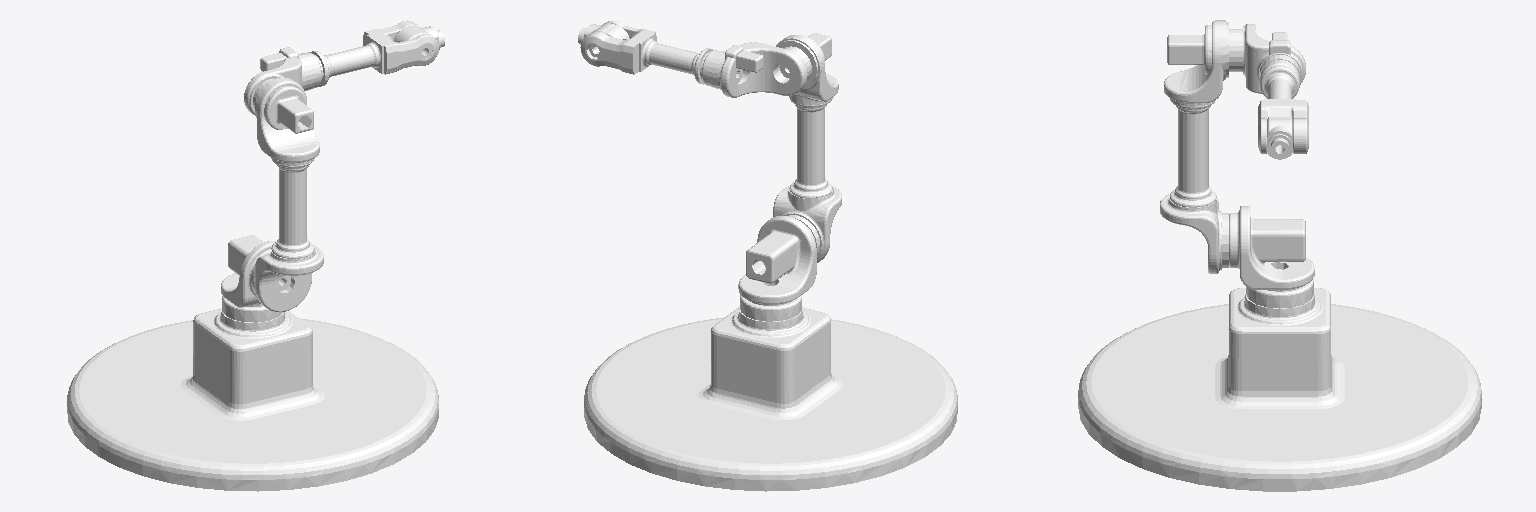
robot.urdf — RVR20MINI_TEMP.SLDASM:
<?xml version="1.0" encoding="utf-8"?>
<!-- This URDF was automatically created by SolidWorks to URDF Exporter! Originally created by [author] ([email redacted]) 
     Commit Version: 1.6.0-4-g7f85cfe  Build Version: 1.6.7995.38578
     For more information, please see http://wiki.ros.org/sw_urdf_exporter -->
<robot
  name="RVR20MINI_TEMP.SLDASM">
  <link
    name="base_link">
    <inertial>
      <origin
        xyz="-1.54392989783833E-19 0.00929477297706579 -4.97751632708001E-18"
        rpy="0 0 0" />
      <mass
        value="0.222689917520898" />
      <inertia
        ixx="0.000274819264637115"
        ixy="2.12307564773359E-22"
        ixz="-8.43724224804088E-22"
        iyy="0.000504168707813865"
        iyz="3.30151799404048E-20"
        izz="0.000274819264637115" />
    </inertial>
    <visual>
      <origin
        xyz="0 0 0"
        rpy="0 0 0" />
      <geometry>
        <mesh
          filename="package://RVR20MINI_TEMP.SLDASM/meshes/base_link.STL" />
      </geometry>
      <material
        name="">
        <color
          rgba="1 1 1 1" />
      </material>
    </visual>
    <collision>
      <origin
        xyz="0 0 0"
        rpy="0 0 0" />
      <geometry>
        <mesh
          filename="package://RVR20MINI_TEMP.SLDASM/meshes/base_link.STL" />
      </geometry>
    </collision>
  </link>
  <link
    name="L1">
    <inertial>
      <origin
        xyz="4.62021943050826E-08 0.0290788057145743 0.0039991736964342"
        rpy="0 0 0" />
      <mass
        value="0.0135740350807715" />
      <inertia
        ixx="3.17413819671584E-06"
        ixy="-4.9658714749571E-12"
        ixz="-5.58072402315751E-14"
        iyy="1.17924282424669E-06"
        iyz="-5.42909059002371E-07"
        izz="2.86969719383377E-06" />
    </inertial>
    <visual>
      <origin
        xyz="0 0 0"
        rpy="0 0 0" />
      <geometry>
        <mesh
          filename="package://RVR20MINI_TEMP.SLDASM/meshes/L1.STL" />
      </geometry>
      <material
        name="">
        <color
          rgba="1 1 1 1" />
      </material>
    </visual>
    <collision>
      <origin
        xyz="0 0 0"
        rpy="0 0 0" />
      <geometry>
        <mesh
          filename="package://RVR20MINI_TEMP.SLDASM/meshes/L1.STL" />
      </geometry>
    </collision>
  </link>
  <joint
    name="J1"
    type="continuous">
    <origin
      xyz="0 0 0.0269"
      rpy="1.5708 0 0" />
    <parent
      link="base_link" />
    <child
      link="L1" />
    <axis
      xyz="0 1 0" />
  </joint>
  <link
    name="L2">
    <inertial>
      <origin
        xyz="-2.86549203059779E-08 0.0379819705942048 0.0146881991179847"
        rpy="0 0 0" />
      <mass
        value="0.0178773231133194" />
      <inertia
        ixx="1.61172519331241E-05"
        ixy="-6.56781619360596E-12"
        ixz="-2.88191711186396E-13"
        iyy="1.12725301541336E-06"
        iyz="-4.65886551400449E-07"
        izz="1.59956345044109E-05" />
    </inertial>
    <visual>
      <origin
        xyz="0 0 0"
        rpy="0 0 0" />
      <geometry>
        <mesh
          filename="package://RVR20MINI_TEMP.SLDASM/meshes/L2.STL" />
      </geometry>
      <material
        name="">
        <color
          rgba="1 1 1 1" />
      </material>
    </visual>
    <collision>
      <origin
        xyz="0 0 0"
        rpy="0 0 0" />
      <geometry>
        <mesh
          filename="package://RVR20MINI_TEMP.SLDASM/meshes/L2.STL" />
      </geometry>
    </collision>
  </link>
  <joint
    name="J2"
    type="continuous">
    <origin
      xyz="0 0.041 0.014"
      rpy="0 0 0" />
    <parent
      link="L1" />
    <child
      link="L2" />
    <axis
      xyz="0 0 1" />
  </joint>
  <link
    name="L3">
    <inertial>
      <origin
        xyz="0.00996266171896739 0.000421532601606267 -0.00640507655955212"
        rpy="0 0 0" />
      <mass
        value="0.00688735229966042" />
      <inertia
        ixx="6.07606488817262E-07"
        ixy="-3.74747259520274E-09"
        ixz="3.91374735946342E-07"
        iyy="1.05305647372454E-06"
        iyz="2.23933306921023E-08"
        izz="8.02459745715922E-07" />
    </inertial>
    <visual>
      <origin
        xyz="0 0 0"
        rpy="0 0 0" />
      <geometry>
        <mesh
          filename="package://RVR20MINI_TEMP.SLDASM/meshes/L3.STL" />
      </geometry>
      <material
        name="">
        <color
          rgba="1 1 1 1" />
      </material>
    </visual>
    <collision>
      <origin
        xyz="0 0 0"
        rpy="0 0 0" />
      <geometry>
        <mesh
          filename="package://RVR20MINI_TEMP.SLDASM/meshes/L3.STL" />
      </geometry>
    </collision>
  </link>
  <joint
    name="J3"
    type="continuous">
    <origin
      xyz="0 0.078 0"
      rpy="0 0 0" />
    <parent
      link="L2" />
    <child
      link="L3" />
    <axis
      xyz="0 0 1" />
  </joint>
  <link
    name="L4">
    <inertial>
      <origin
        xyz="0.0352355780119412 -2.64065991295581E-10 -0.00123725202286405"
        rpy="0 0 0" />
      <mass
        value="0.00560898359232287" />
      <inertia
        ixx="2.07371603867396E-07"
        ixy="7.23817792241906E-15"
        ixz="9.37522309866555E-08"
        iyy="1.65030980742467E-06"
        iyz="-2.20866861869871E-13"
        izz="1.55712674582278E-06" />
    </inertial>
    <visual>
      <origin
        xyz="0 0 0"
        rpy="0 0 0" />
      <geometry>
        <mesh
          filename="package://RVR20MINI_TEMP.SLDASM/meshes/L4.STL" />
      </geometry>
      <material
        name="">
        <color
          rgba="1 1 1 1" />
      </material>
    </visual>
    <collision>
      <origin
        xyz="0 0 0"
        rpy="0 0 0" />
      <geometry>
        <mesh
          filename="package://RVR20MINI_TEMP.SLDASM/meshes/L4.STL" />
      </geometry>
    </collision>
  </link>
  <joint
    name="J4"
    type="continuous">
    <origin
      xyz="0.0202 0 -0.014"
      rpy="0 0 0" />
    <parent
      link="L3" />
    <child
      link="L4" />
    <axis
      xyz="1 0 0" />
  </joint>
  <link
    name="L5">
    <inertial>
      <origin
        xyz="0.000752262824044059 1.71941863524872E-09 2.17215707045077E-09"
        rpy="0 0 0" />
      <mass
        value="0.00131297721245455" />
      <inertia
        ixx="3.01450279534319E-08"
        ixy="-6.34460906630942E-15"
        ixz="1.24822423471461E-15"
        iyy="3.85238716561722E-08"
        iyz="-3.1621868550185E-13"
        izz="4.69485728338966E-08" />
    </inertial>
    <visual>
      <origin
        xyz="0 0 0"
        rpy="0 0 0" />
      <geometry>
        <mesh
          filename="package://RVR20MINI_TEMP.SLDASM/meshes/L5.STL" />
      </geometry>
      <material
        name="">
        <color
          rgba="1 1 1 1" />
      </material>
    </visual>
    <collision>
      <origin
        xyz="0 0 0"
        rpy="0 0 0" />
      <geometry>
        <mesh
          filename="package://RVR20MINI_TEMP.SLDASM/meshes/L5.STL" />
      </geometry>
    </collision>
  </link>
  <joint
    name="J5"
    type="continuous">
    <origin
      xyz="0.0556 0 0"
      rpy="0 0 0" />
    <parent
      link="L4" />
    <child
      link="L5" />
    <axis
      xyz="0 0 1" />
  </joint>
  <link
    name="L6">
    <inertial>
      <origin
        xyz="0.00020000000000002 2.77555756156289E-17 1.2102167109383E-19"
        rpy="0 0 0" />
      <mass
        value="7.65456904028786E-05" />
      <inertia
        ixx="5.86052942147038E-10"
        ixy="2.05657779795998E-26"
        ixz="-9.14034576871102E-27"
        iyy="3.36147210000475E-10"
        iyz="-5.94122474966216E-26"
        izz="3.36147210000475E-10" />
    </inertial>
    <visual>
      <origin
        xyz="0 0 0"
        rpy="0 0 0" />
      <geometry>
        <mesh
          filename="package://RVR20MINI_TEMP.SLDASM/meshes/L6.STL" />
      </geometry>
      <material
        name="">
        <color
          rgba="1 1 1 1" />
      </material>
    </visual>
    <collision>
      <origin
        xyz="0 0 0"
        rpy="0 0 0" />
      <geometry>
        <mesh
          filename="package://RVR20MINI_TEMP.SLDASM/meshes/L6.STL" />
      </geometry>
    </collision>
  </link>
  <joint
    name="J6"
    type="continuous">
    <origin
      xyz="0.01 0 0"
      rpy="0 0 0" />
    <parent
      link="L5" />
    <child
      link="L6" />
    <axis
      xyz="1 0 0" />
  </joint>
</robot>

--- Render facts (derived) ---
Views: 3 orthographic renders of the robot side by side, from view 1: azimuth 30°, elevation 25°; view 2: azimuth 150°, elevation 25°; view 3: azimuth 270°, elevation 25°.
Model RVR20MINI_TEMP.SLDASM with 7 links and 6 joints (6 continuous), rooted at base_link, posed every joint at zero.
Visible links, largest first — view 1: base_link, L2, L4, L1, L3; view 2: base_link, L2, L1, L3, L4; view 3: base_link, L2, L1, L3, L4, L5.
Boxes of the visible links, x1,y1,x2,y2 form: base_link: (67, 296, 438, 491); L2: (254, 78, 323, 311); L4: (310, 20, 438, 86); L1: (221, 235, 276, 307); L3: (244, 47, 321, 115); base_link: (584, 295, 957, 491); L2: (773, 33, 841, 262); L1: (738, 216, 816, 305); L3: (702, 42, 811, 97); L4: (580, 21, 712, 84); base_link: (1078, 280, 1481, 491); L2: (1160, 20, 1228, 273); L1: (1229, 206, 1314, 291); L3: (1229, 24, 1305, 93); L4: (1258, 66, 1308, 153); L5: (1267, 117, 1292, 159).
Size in the robot's own frame: 0.1622 by 0.15 by 0.157 metres.
Meshes: 7 distinct files referenced, 7 mesh visuals loaded (7 binary STL).